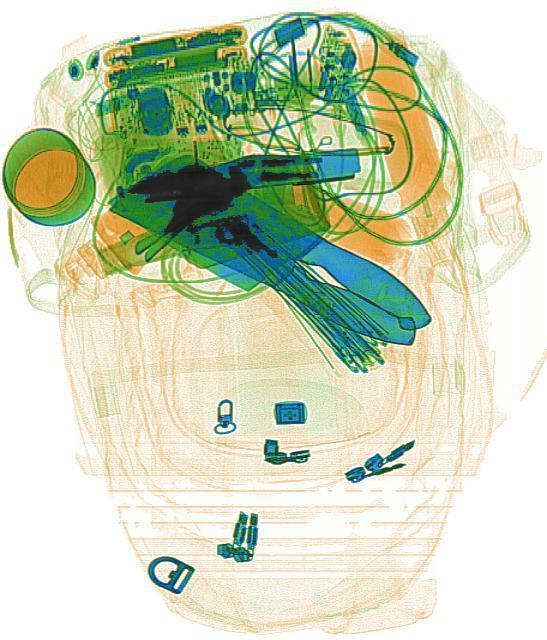Knife: (105, 119, 438, 388), (108, 129, 439, 355)
